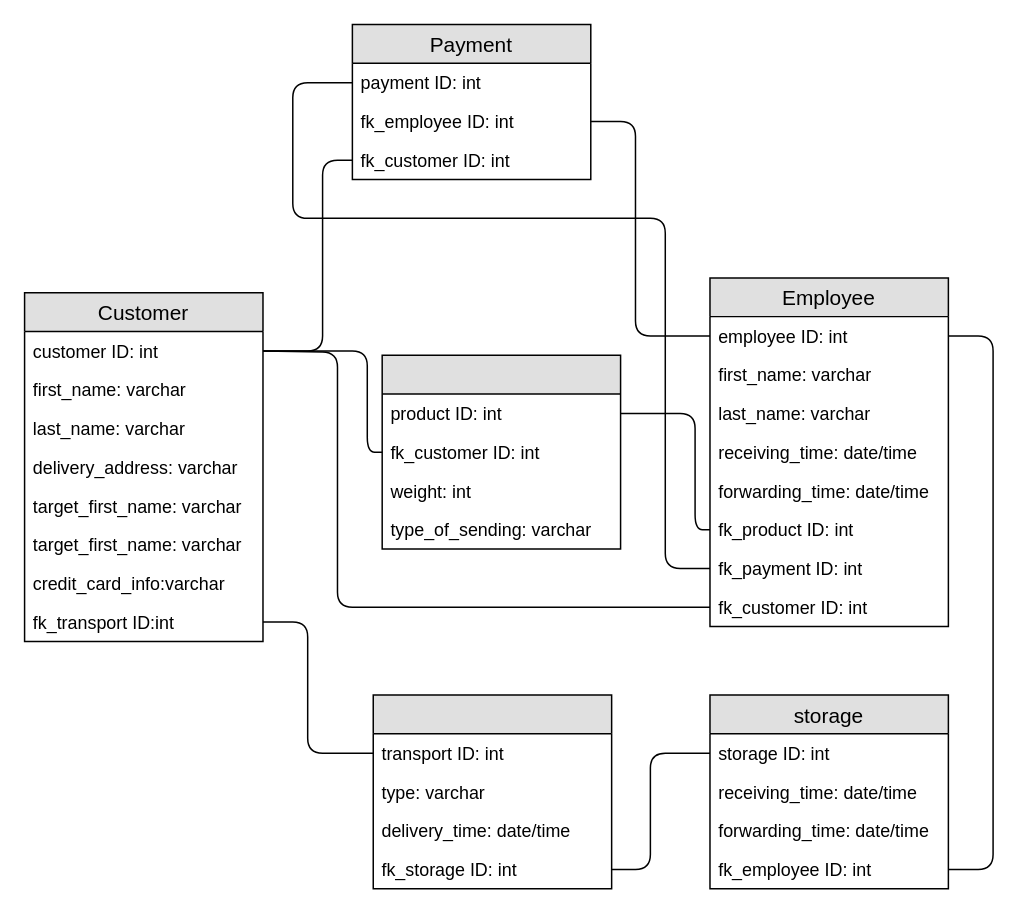
Image size: 1018x913. Some labels were removed from this diagram. Each missing label, with the box of its shape:
Product/order: (381, 354, 621, 549)
transport/logistic: (372, 694, 612, 889)
